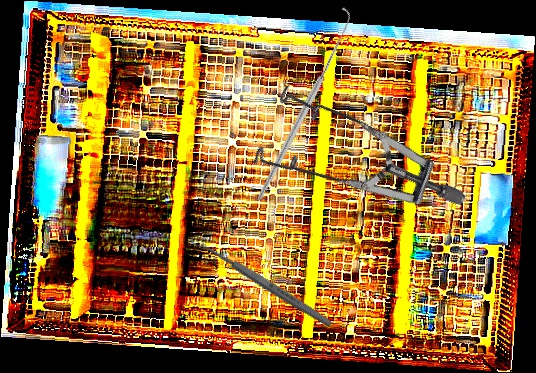Hook Surgical: (194, 6, 410, 203)
Speculum: (228, 39, 468, 289)
Surgical Spoon: (189, 232, 334, 330)
